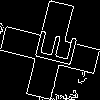E: (25, 25, 78, 69)
